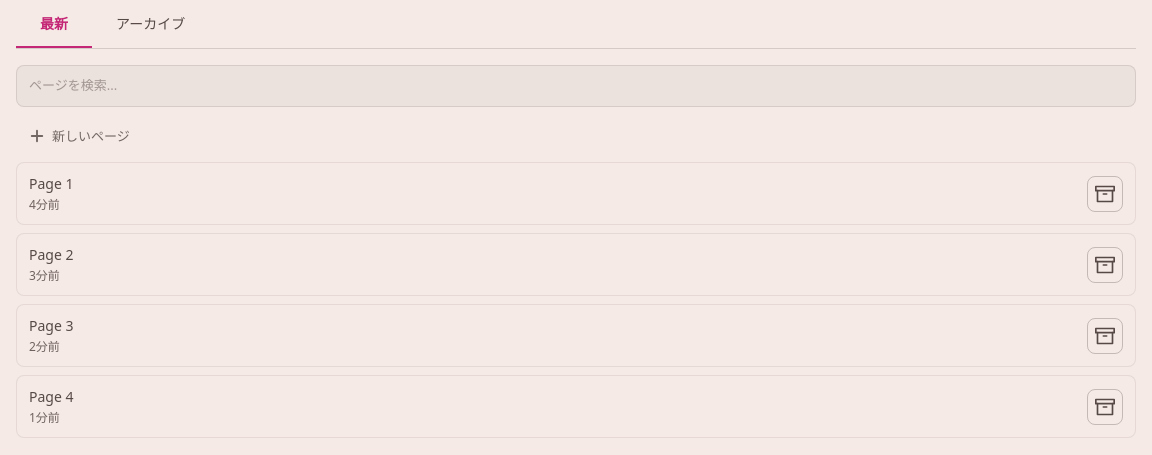
Test: Sidebar › search › shows all pages when search is cleared
Step 1. Type "Page 1" into the field labelled "ページを検索" → (576, 86), box left=16, top=65, right=1136, bottom=106
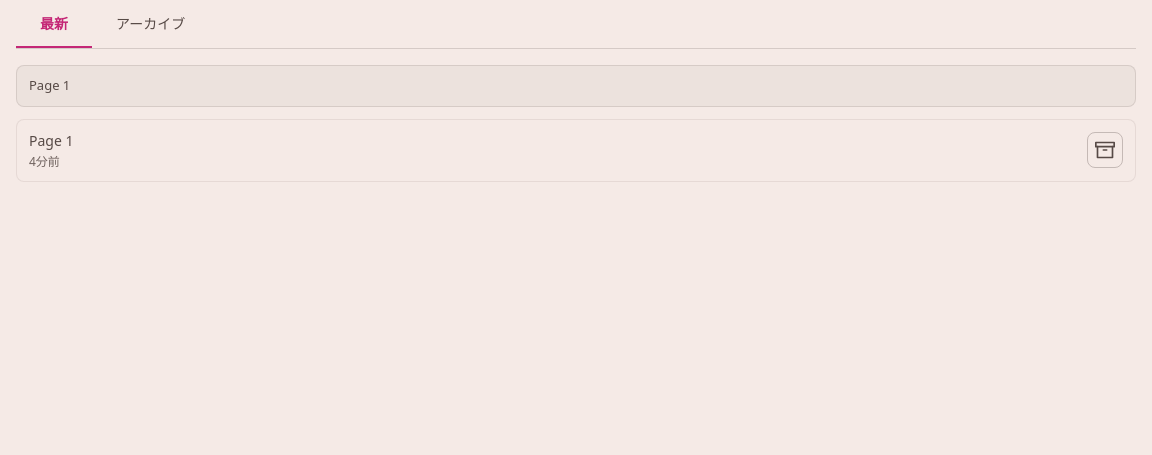
Step 2. Clear the field named "ページを検索" → (576, 86), box left=16, top=65, right=1136, bottom=106
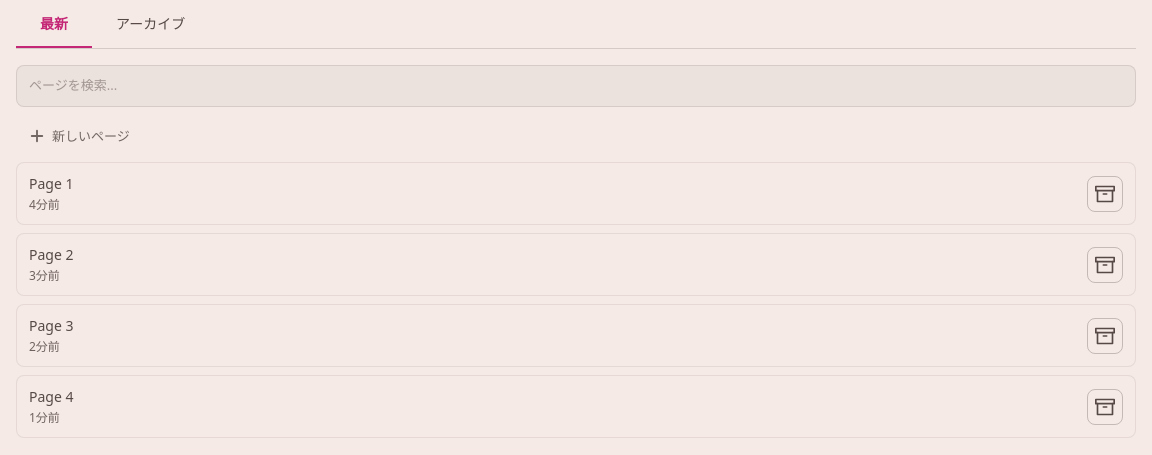
Expected: the heading "Page 1" is shown, left=29, top=174, right=74, bottom=193
Result: the heading "Page 2" is shown at left=29, top=245, right=74, bottom=264
